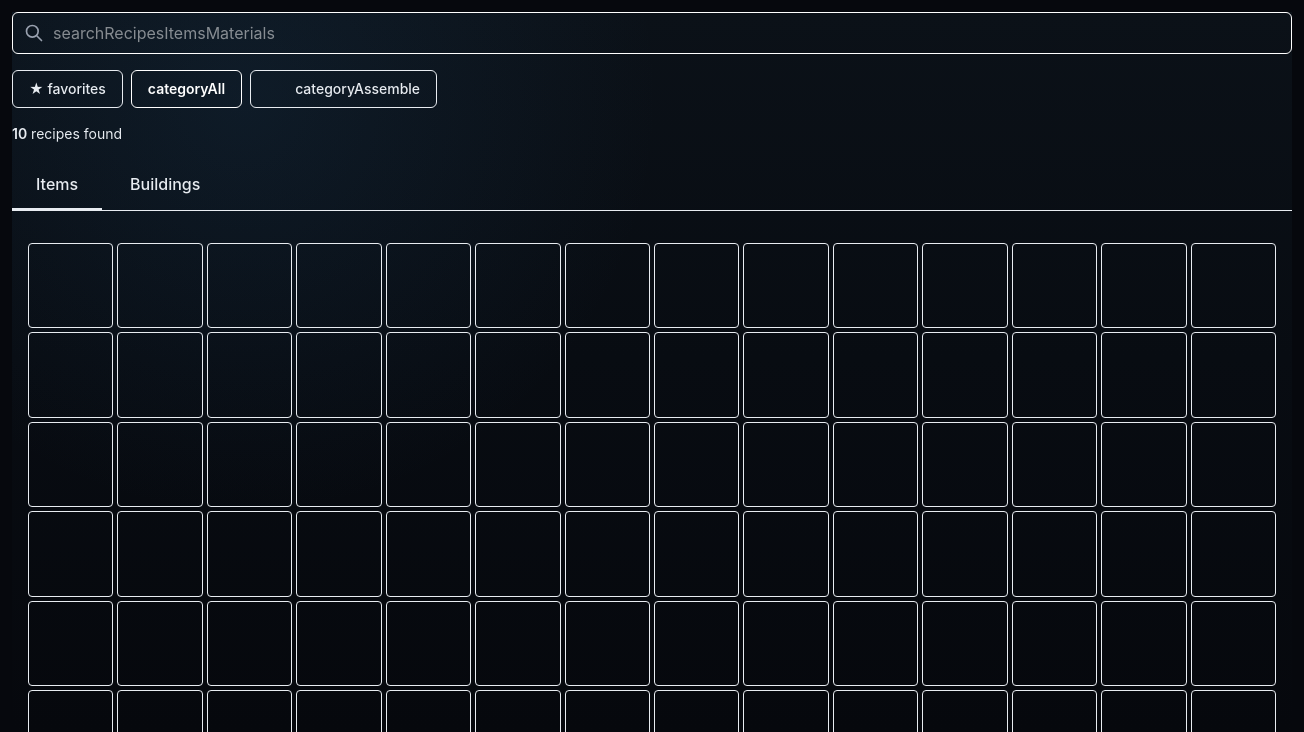
RecipeSelector › 検索サジェスチョンが5件までに制限される
// 「Test」で検索
Type "test" into the field with placeholder "searchRecipesItemsMaterials".
click(652, 33); type("test")  # box 12,12 -> 1292,54
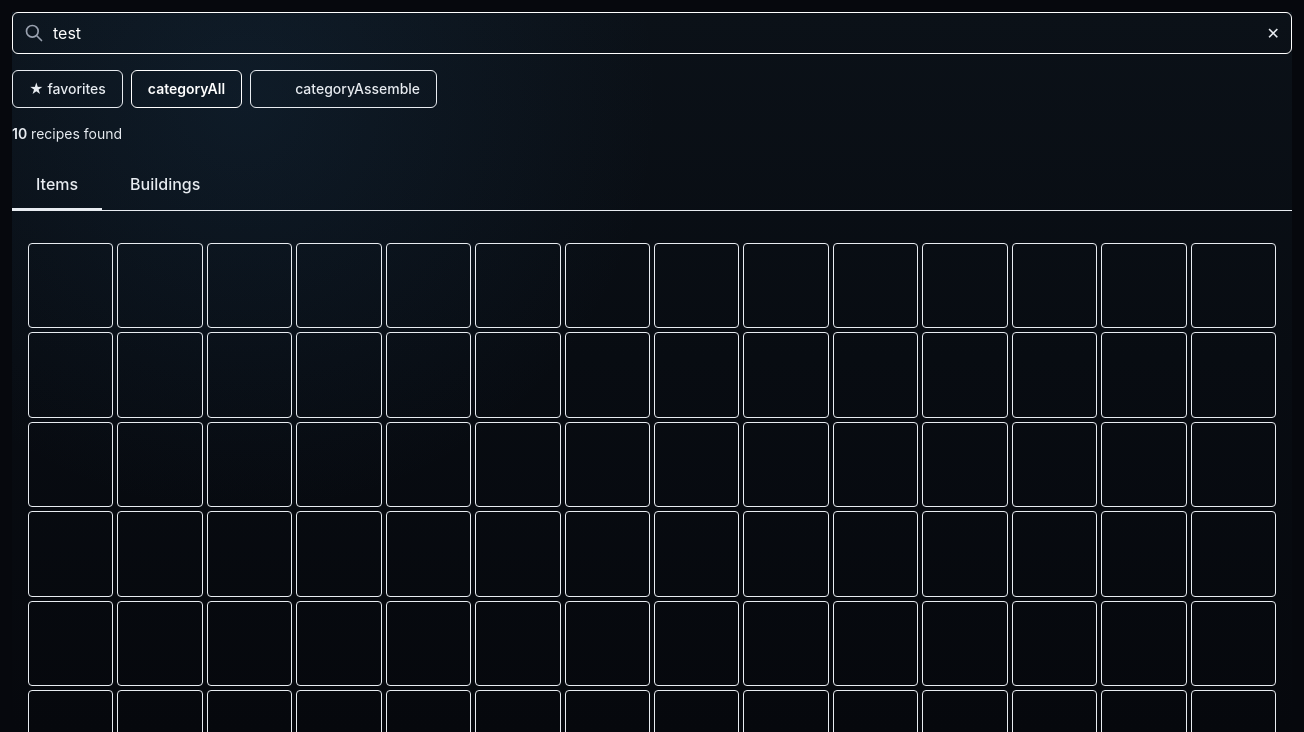
Focus the field with placeholder "searchRecipesItemsMaterials" at (652, 33), box 12,12 -> 1292,54
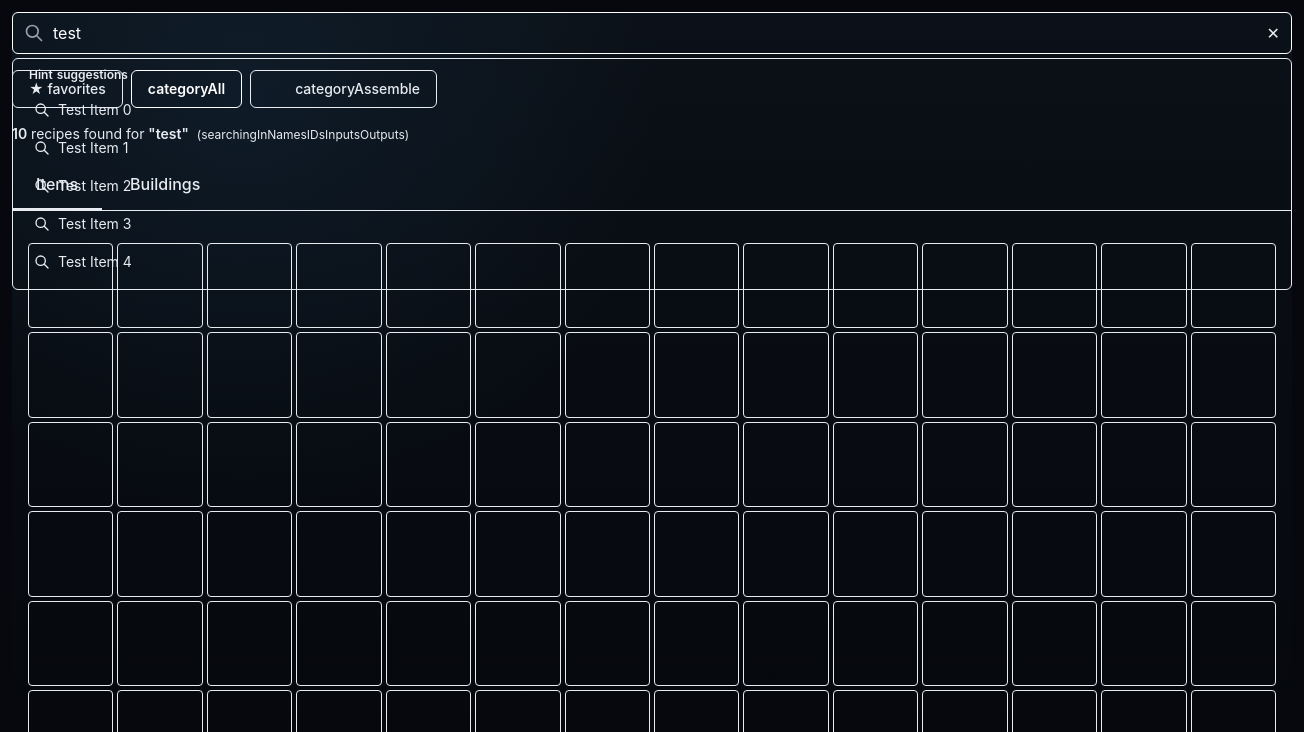
Expected: the text "suggestions" is shown, 57,67 -> 128,82
